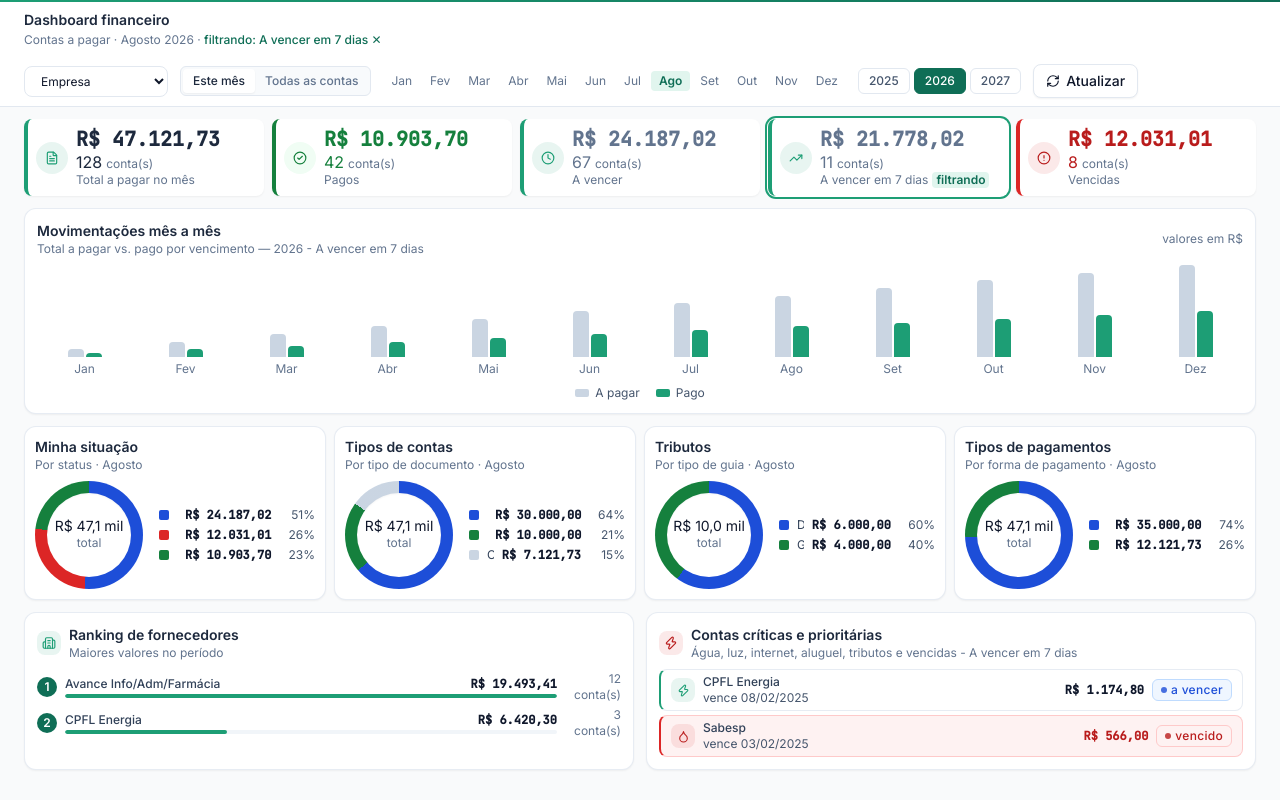
Scenario: Dashboard › o card selecionado ganha o destaque completo (anel + selo + título de limpar)
This screenshot has width=1280, height=800.
Check: the text "Total a pagar no mês" is shown, box [76, 172, 195, 188]
Check: the button "R$ 21.778,02 11conta(s) A vencer em 7 dias filtrando" is shown, box [768, 119, 1008, 196]
Step 1. Click the button "R$ 10.903,70 42conta(s) Pagos" → (392, 158), box [272, 119, 512, 196]
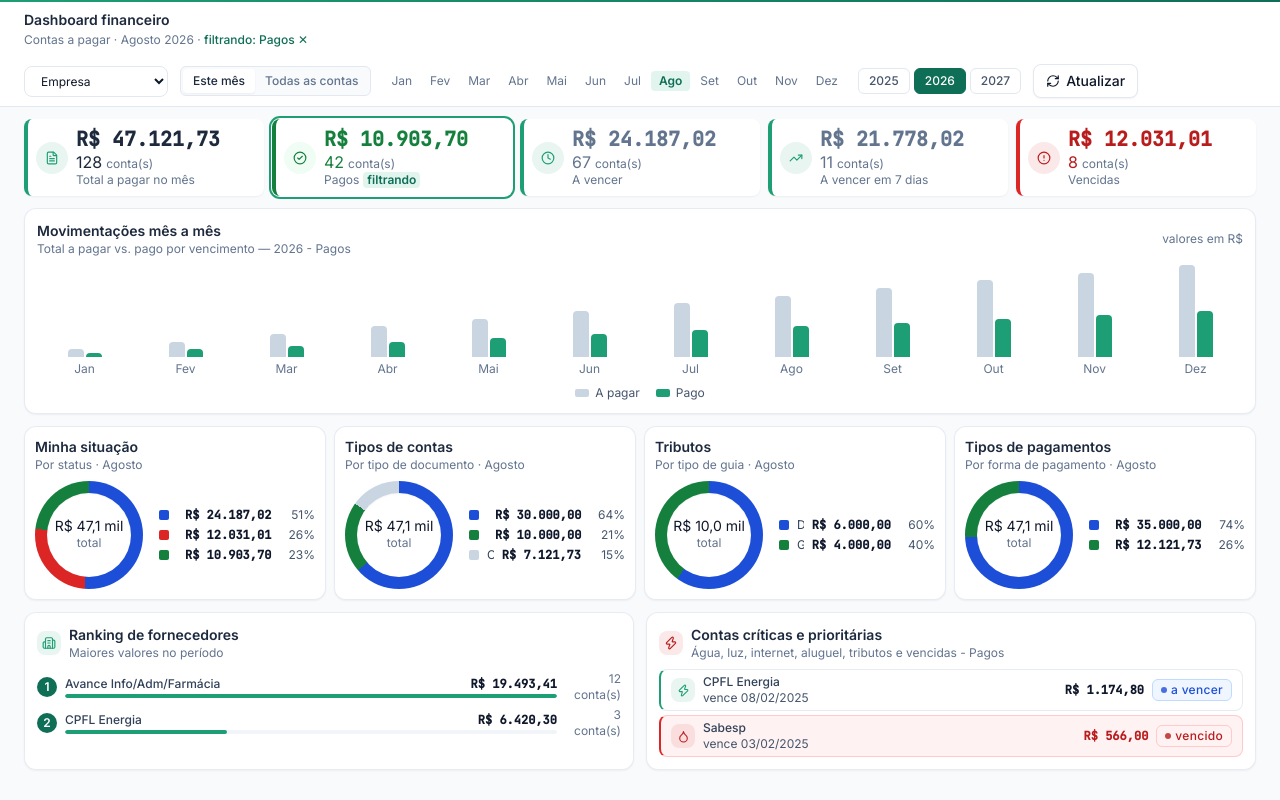
Check: the button "R$ 10.903,70 42conta(s) Pagos filtrando" is shown, box [272, 119, 512, 196]
